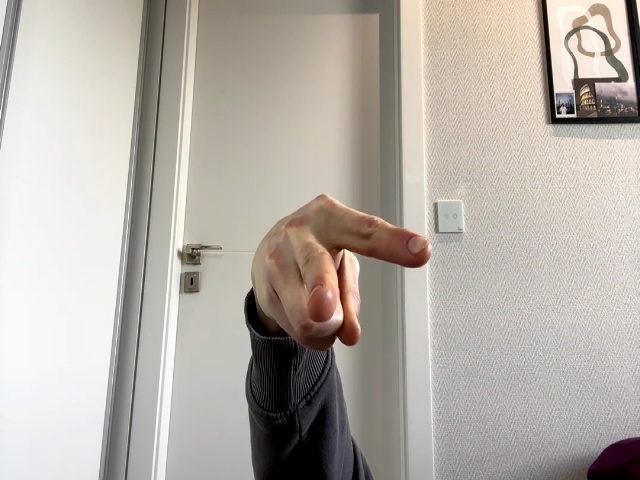U: (251, 194, 433, 351)
